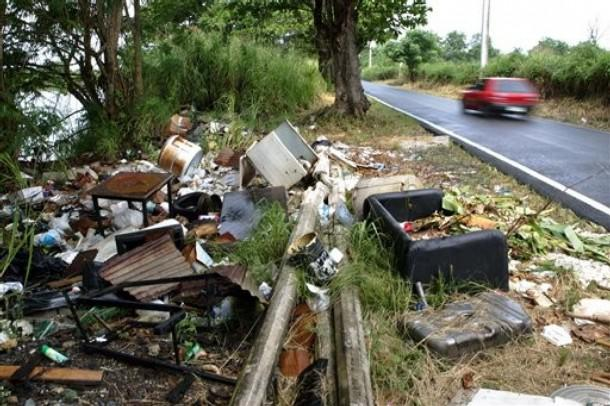Garbage: (564, 288, 610, 329), (24, 216, 69, 248), (357, 152, 420, 173), (189, 167, 231, 198), (50, 200, 87, 219), (488, 182, 518, 198), (14, 188, 44, 203)
